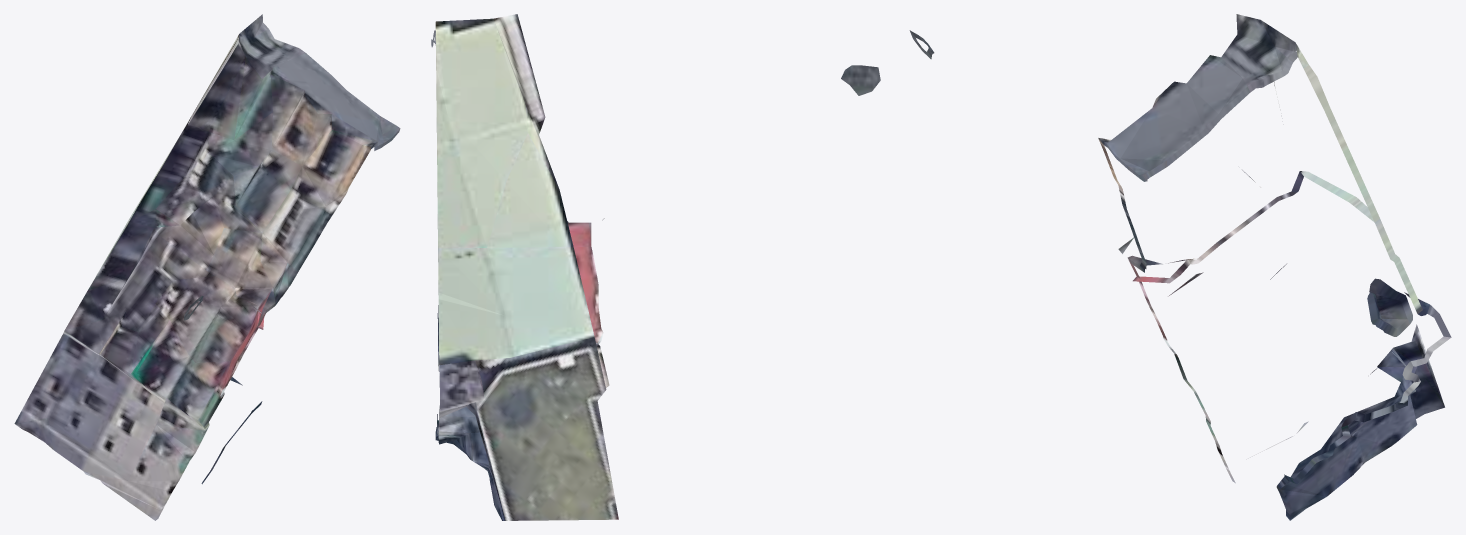
3 renders of one model, left to right at view 1: azimuth 30°, elevation 25°; view 2: azimuth 150°, elevation 25°; view 3: azimuth 270°, elevation 25°, orthographic. The views are drawn at different scales.
Bounding box in the file's own units: 27.4 × 37.32 × 35.63.
Materials: 1 (1 with a texture image).
